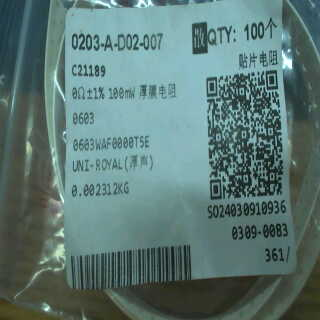0R: (71, 82, 137, 125)
